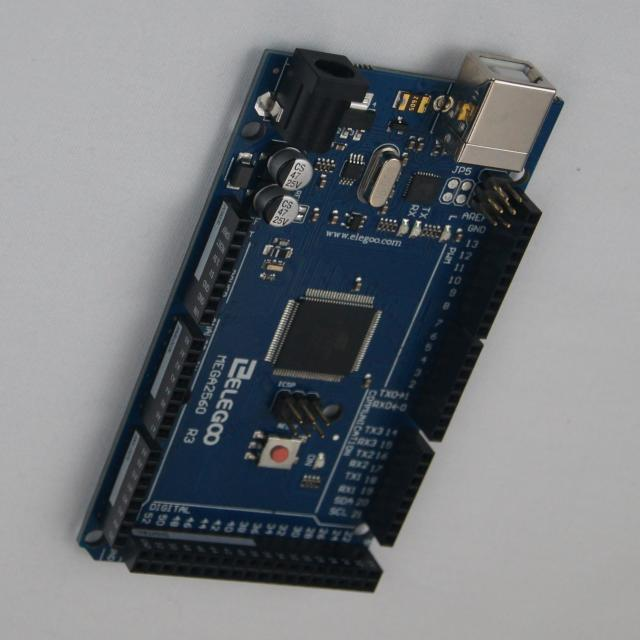Arduino Mega 2560 -Blue-: (79, 49, 563, 591)
